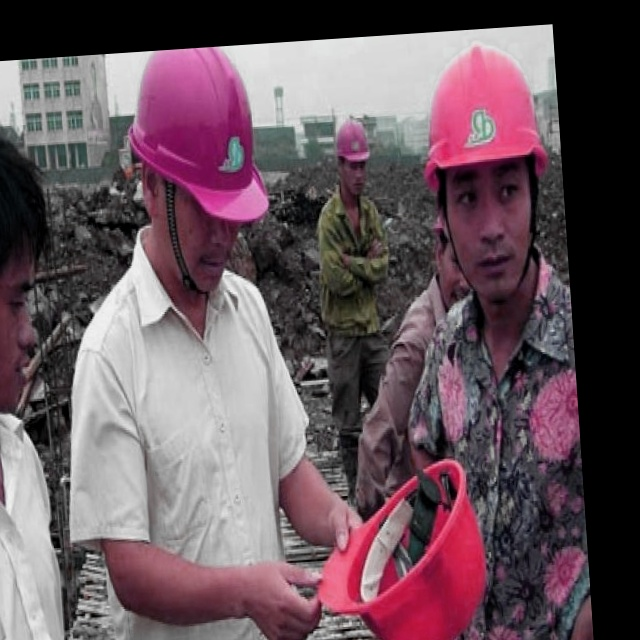Con_Casco: (421, 46, 555, 288)
Sin_Chaleco: (66, 276, 313, 640)
